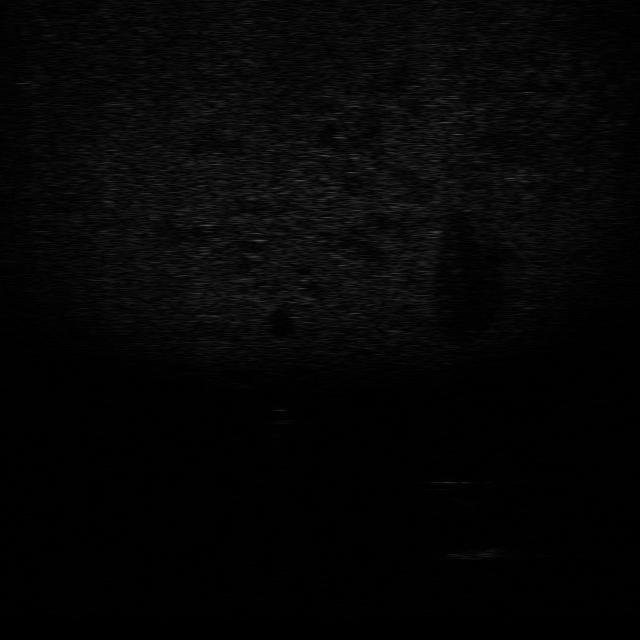ball: (261, 405, 299, 427)
metal bucket: (435, 541, 525, 564)
tyre: (434, 476, 488, 512)
